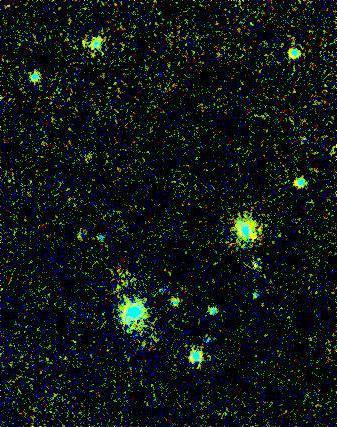star: (248, 254, 278, 284)
